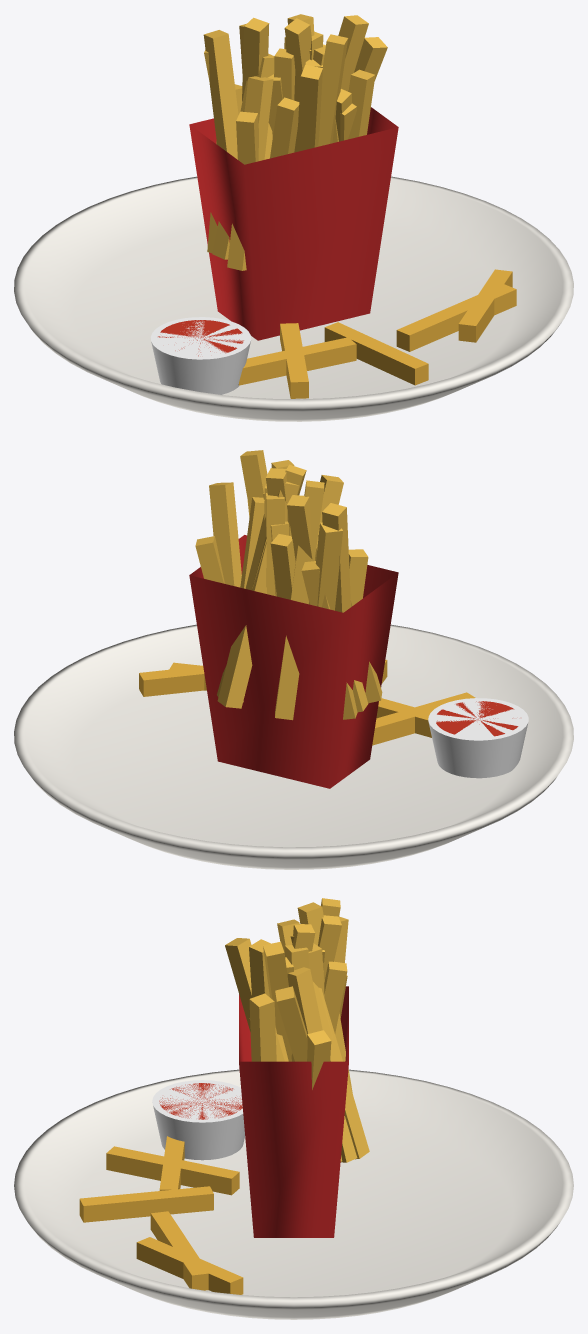
File: batata-frita.glb
The picture shows the model from 3 angles, top to bottom: view 1: azimuth 30°, elevation 25°; view 2: azimuth 150°, elevation 25°; view 3: azimuth 270°, elevation 25°; orthographic projection.
Parts seen in each view (by area): view 1: prato, batata-frita, batatas, batatas-soltas; view 2: prato, batata-frita, batatas, batatas-soltas; view 3: prato, batata-frita, batatas, batatas-soltas.
Part boxes in pixels (left/top/right/bottom): prato: left=14, top=176, right=573, bottom=421; batata-frita: left=150, top=107, right=398, bottom=394; batatas: left=203, top=14, right=387, bottom=270; batatas-soltas: left=238, top=269, right=516, bottom=398; prato: left=14, top=624, right=573, bottom=869; batata-frita: left=189, top=535, right=528, bottom=788; batatas: left=195, top=450, right=382, bottom=720; batatas-soltas: left=139, top=659, right=475, bottom=745; prato: left=14, top=1069, right=573, bottom=1319; batata-frita: left=152, top=986, right=348, bottom=1237; batatas: left=225, top=898, right=369, bottom=1162; batatas-soltas: left=79, top=1136, right=243, bottom=1294.
Bounding box in the file's own units: 0.2448 × 0.1482 × 0.2448.
